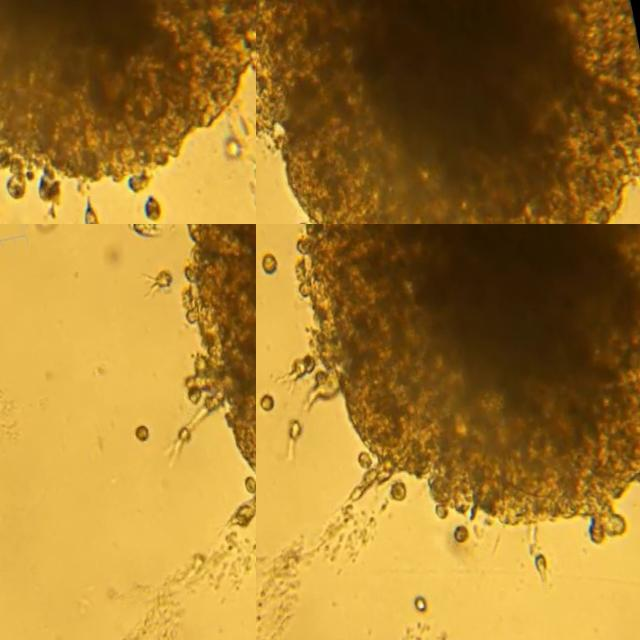cell: (140, 269, 170, 296), (224, 134, 243, 161), (261, 251, 278, 274), (534, 552, 548, 579), (129, 224, 160, 236), (86, 196, 99, 224), (146, 197, 162, 218), (392, 480, 407, 500), (134, 422, 150, 440), (455, 523, 470, 542), (290, 419, 303, 440), (415, 592, 429, 611), (260, 392, 275, 409), (244, 477, 256, 492)
tumor_mass: (284, 224, 640, 546), (256, 0, 640, 224)
